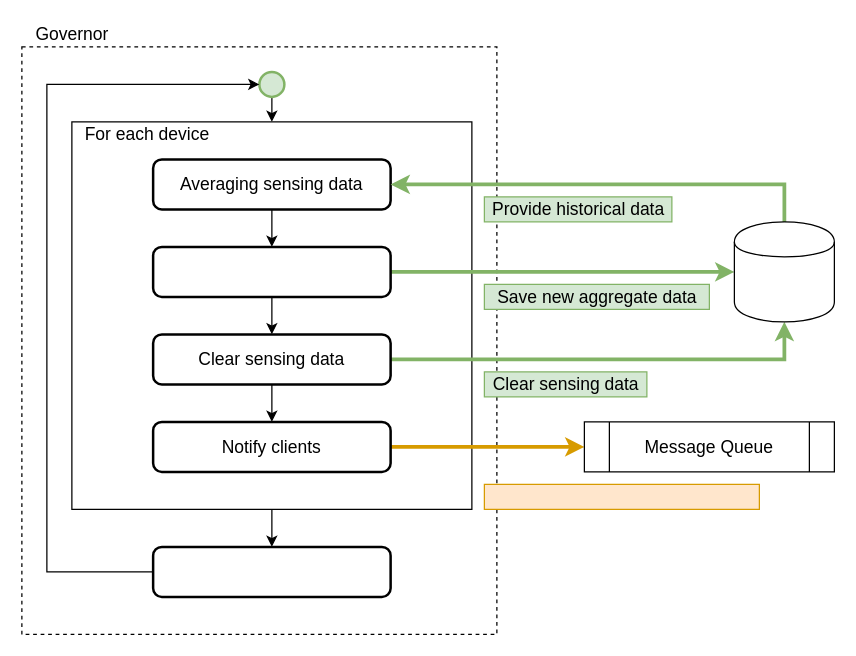
Some shapes in this 856 by 656 pixel diagram are drawn without their labels. The shapes that lost their labels are listed below. From the top down, each one's centre as x and y in pixels, then its label:
At [271,271]: "Save aggregate data".
At [783,271]: "On-disk database".
At [621,496]: "Push MSG [new aggregate data]".
At [271,571]: "Wait 60 seconds".
